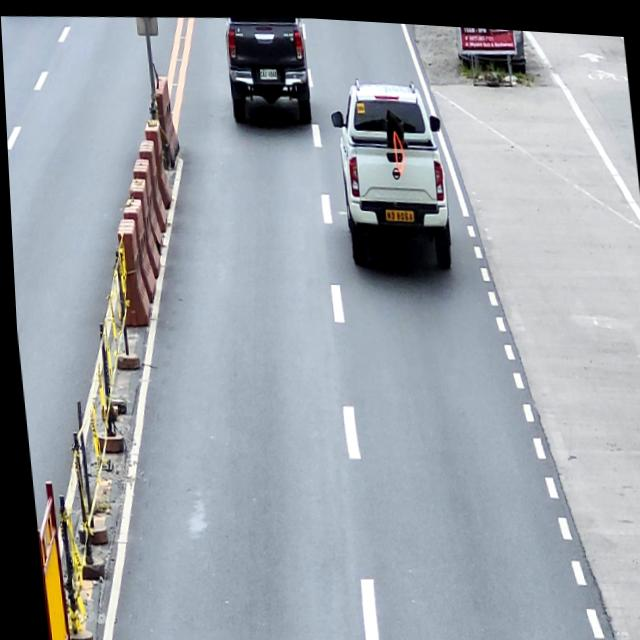Car: (326, 69, 453, 269), (223, 11, 311, 124)
License-Plate: (383, 204, 414, 218), (259, 66, 278, 78)
